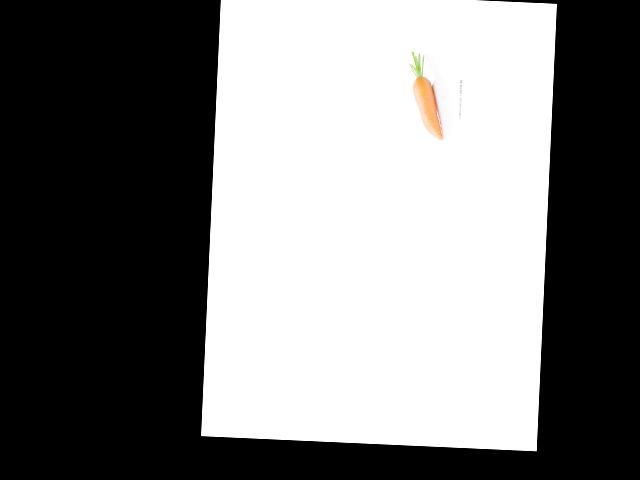carrot: (408, 67, 447, 144)
